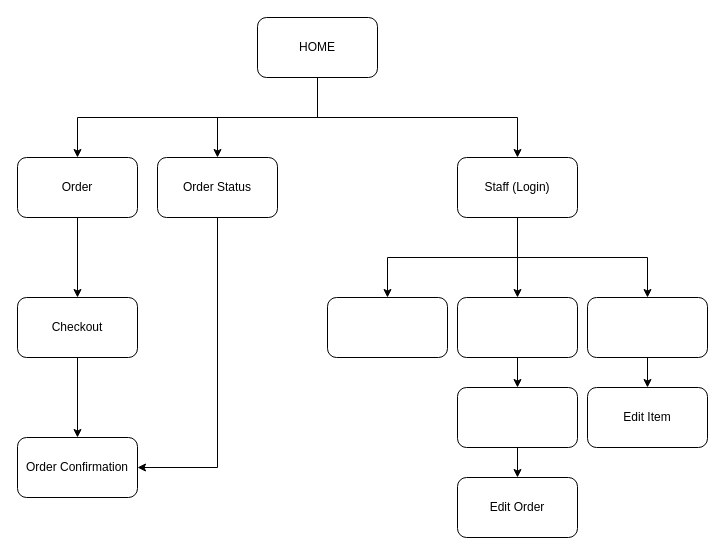
Image size: 725x555. Some labels were removed from this diagram. Here are the shapes that lost their labels. From the top down, the centre of each, then its label:
At point (387, 327): "Log Out".
At point (517, 327): "Orders (Dash)".
At point (647, 327): "Edit Menu".
At point (517, 417): "View Order (Admin View)".
